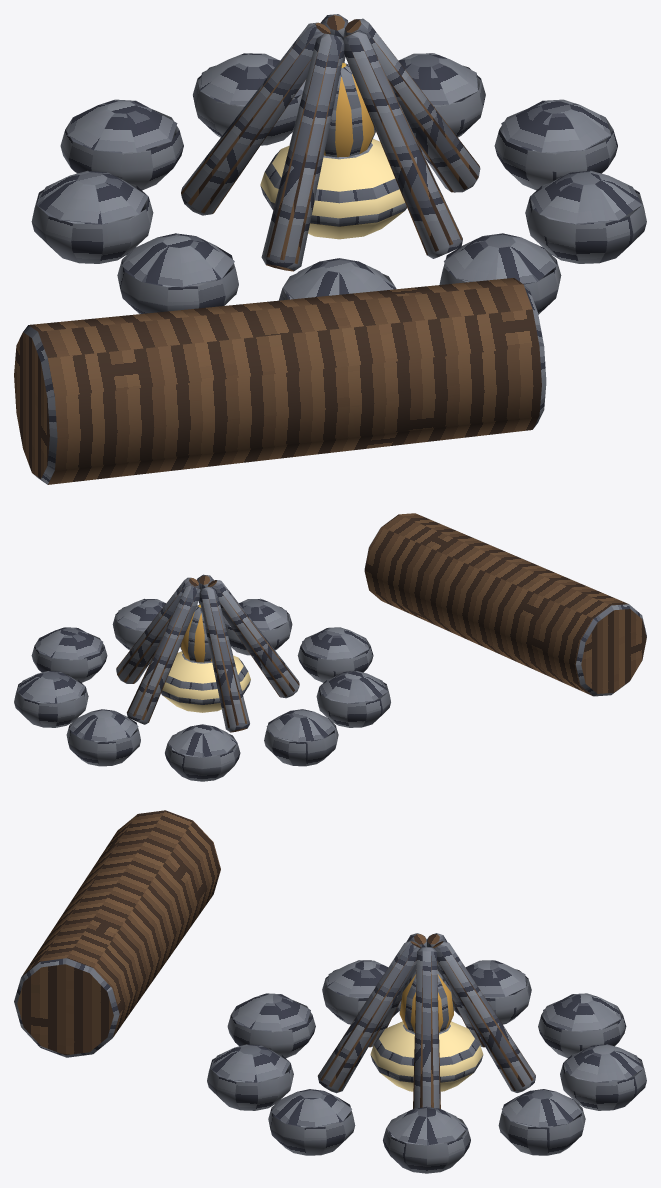
Rendered from spec_campfire_3.glb.
3 views of the same model, one above another, from view 1: azimuth 30°, elevation 25°; view 2: azimuth 150°, elevation 25°; view 3: azimuth 270°, elevation 25° (orthographic). The views are drawn at different scales.
Parts seen in each view (by area): view 1: spec_campfire_3; view 2: spec_campfire_3; view 3: spec_campfire_3.
Part boxes in pixels (left/top/right/bottom): spec_campfire_3: left=14, top=14, right=646, bottom=484; spec_campfire_3: left=14, top=513, right=646, bottom=781; spec_campfire_3: left=14, top=810, right=646, bottom=1173.
Bounding box in the file's own units: 2.22 × 0.5698 × 2.19.
4 materials, 4 textured.
